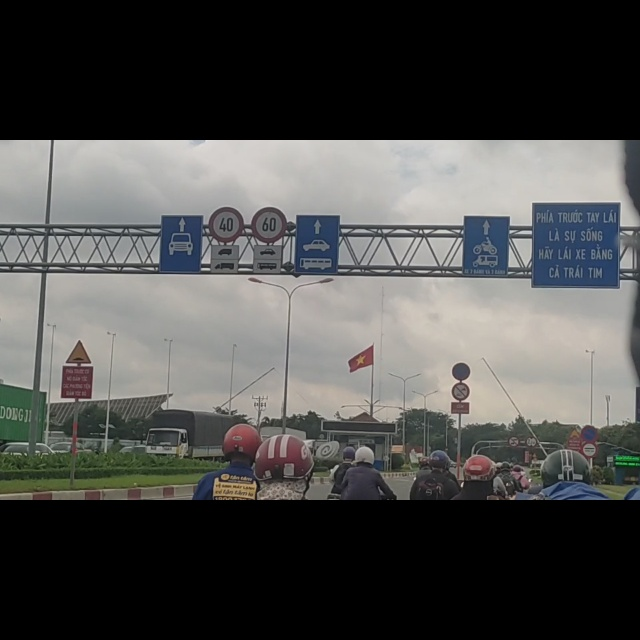bien_nguy_hiem: (251, 119, 287, 183), (209, 119, 244, 183), (66, 356, 93, 398), (451, 396, 471, 428), (453, 431, 470, 463), (582, 537, 598, 565), (582, 508, 597, 536), (525, 527, 538, 548), (569, 511, 581, 532), (509, 525, 519, 544)
